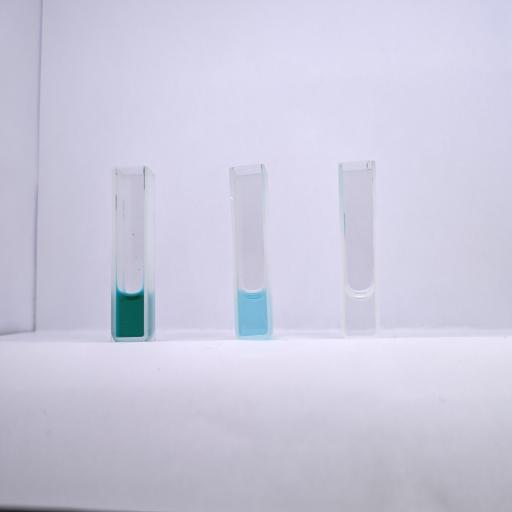cuvette: (226, 162, 274, 341), (335, 158, 381, 340), (110, 163, 150, 342)
liquid: (237, 288, 267, 335), (346, 288, 375, 334), (116, 291, 144, 338)
